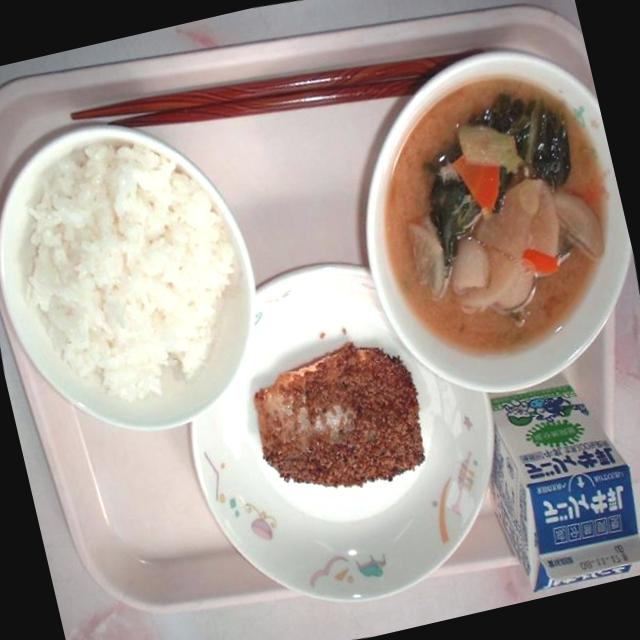Rice: (0, 100, 299, 467)
